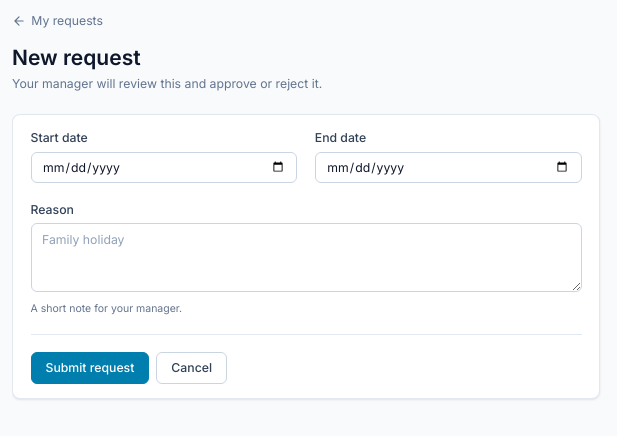
NewRequestPage › shows how many days the range covers
In the date field labelled "Start date": (164, 167) [30, 152, 297, 183], type "2026-09-10"
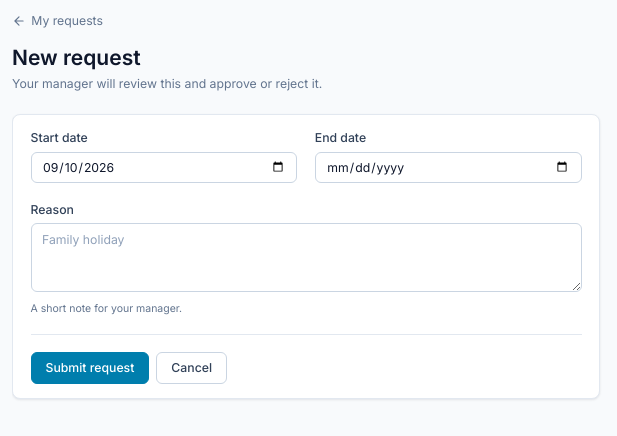
In the date field labelled "End date": (448, 167) [315, 152, 582, 183], type "2026-09-14"
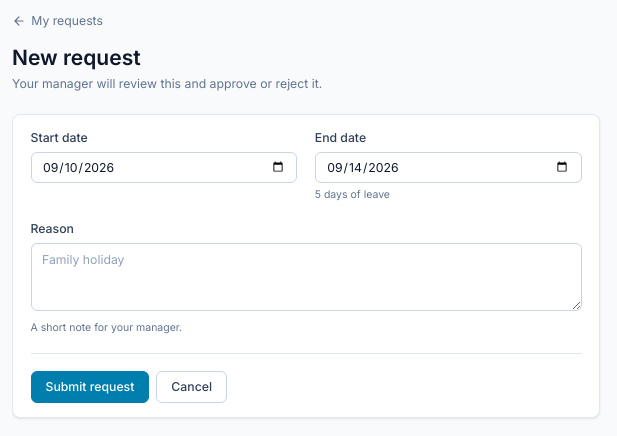
Check: the text "5 days of leave" is shown, box [315, 188, 390, 201]
